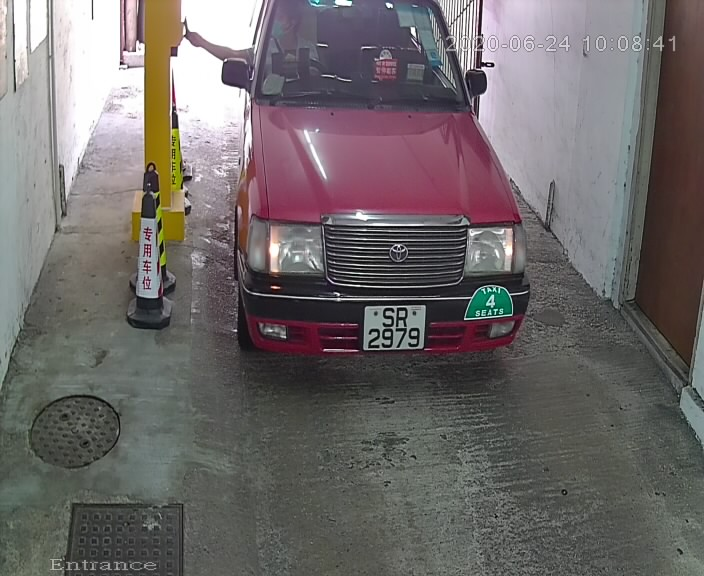Car: (216, 1, 545, 393)
License Plate: (359, 301, 431, 355)
